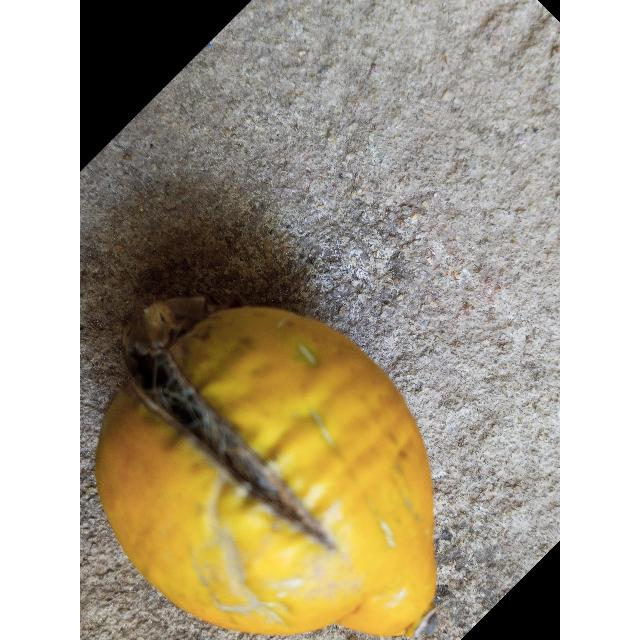damaged: (94, 305, 437, 640)
